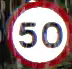Speed limit: (7, 1, 71, 68)
